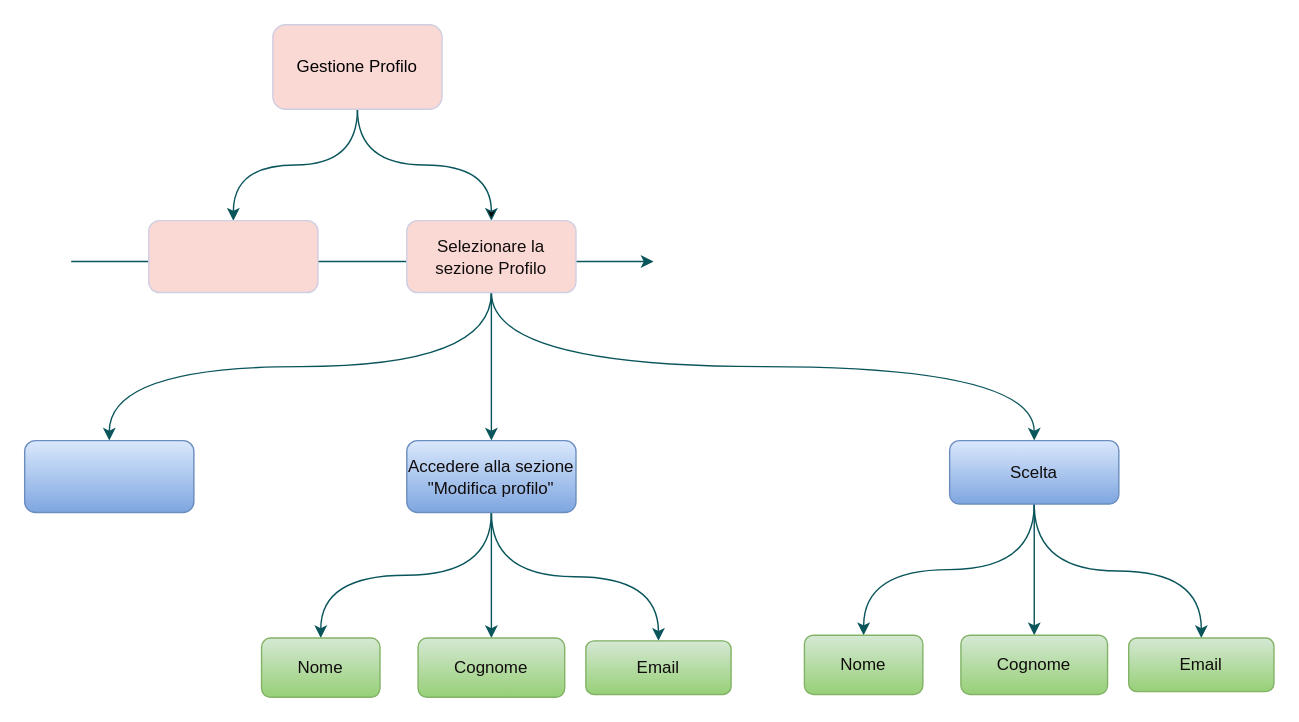
This 1299x722 diagram has some shape labels left out. Here are the shapes that lost their labels. From the top down, the box of each, then its label:
(147, 219, 318, 293): Aver effettuato il login alla piattaforma
(23, 439, 194, 513): Selezionare un'immagine di profilo
